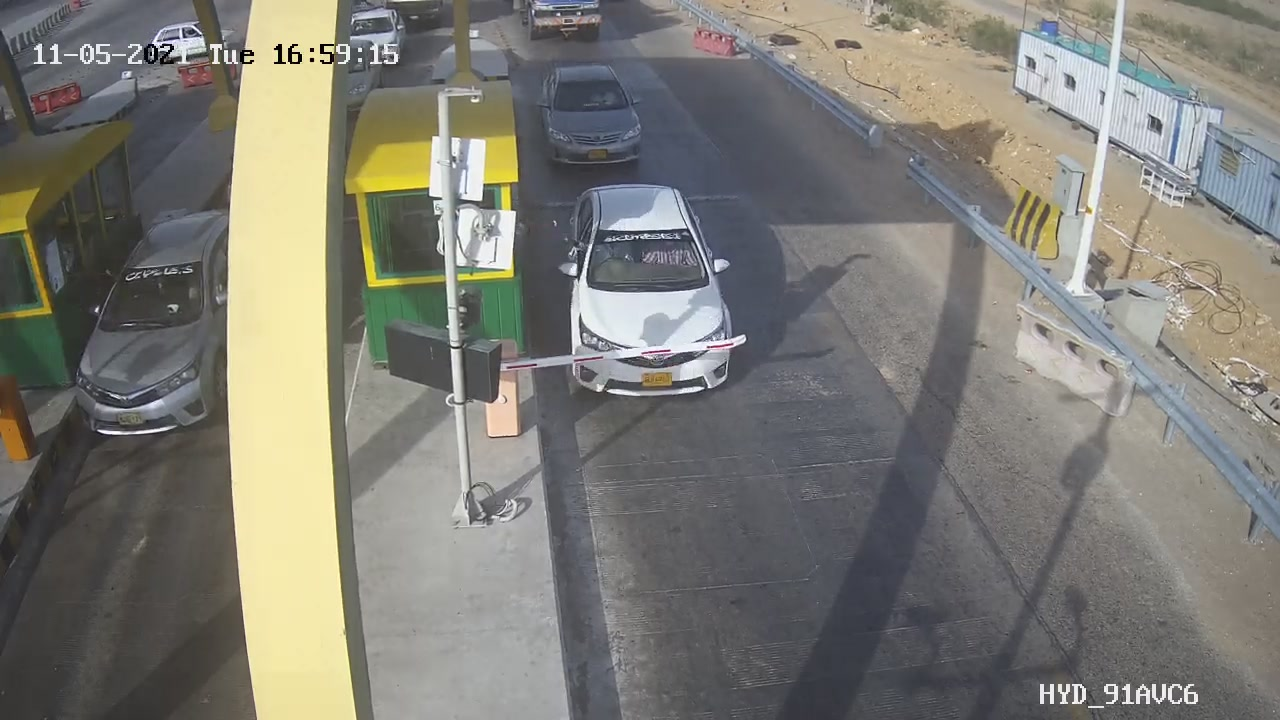F1: (543, 165, 757, 418), (521, 53, 669, 179)
